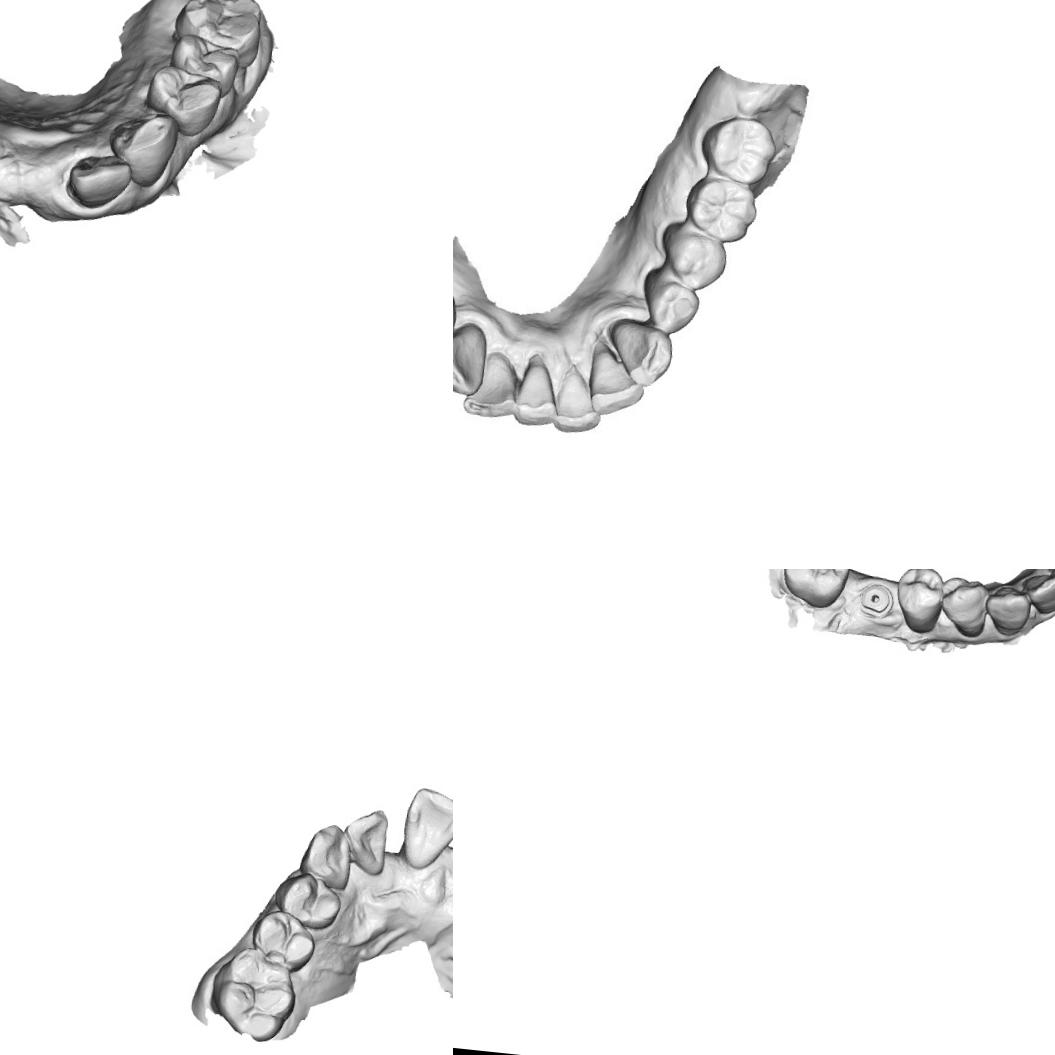canine: (104, 105, 186, 192), (606, 313, 675, 386), (296, 820, 356, 892), (982, 581, 1034, 640), (453, 321, 488, 390)
implant: (856, 582, 895, 618)
incisor: (397, 785, 453, 875), (62, 148, 134, 213), (552, 357, 605, 438), (460, 359, 524, 424), (587, 338, 642, 410), (341, 805, 391, 878), (514, 358, 564, 429), (1018, 571, 1055, 617)
molar: (206, 943, 302, 1046), (702, 113, 779, 184), (172, 0, 267, 52), (688, 174, 758, 242), (779, 569, 855, 612)
premolar: (140, 62, 225, 130), (166, 30, 243, 98), (270, 870, 346, 934), (247, 908, 319, 975), (890, 569, 947, 637), (935, 573, 991, 638), (666, 232, 725, 288), (644, 279, 702, 334)
